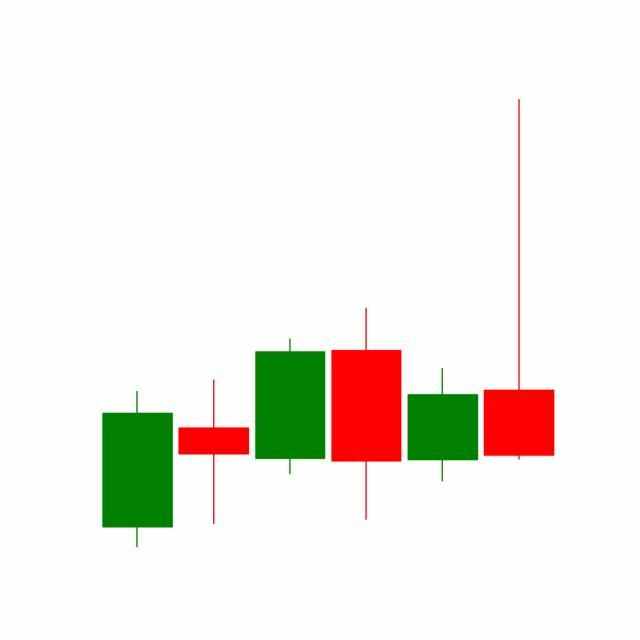Hikkake Pattern: (175, 100, 555, 530)
